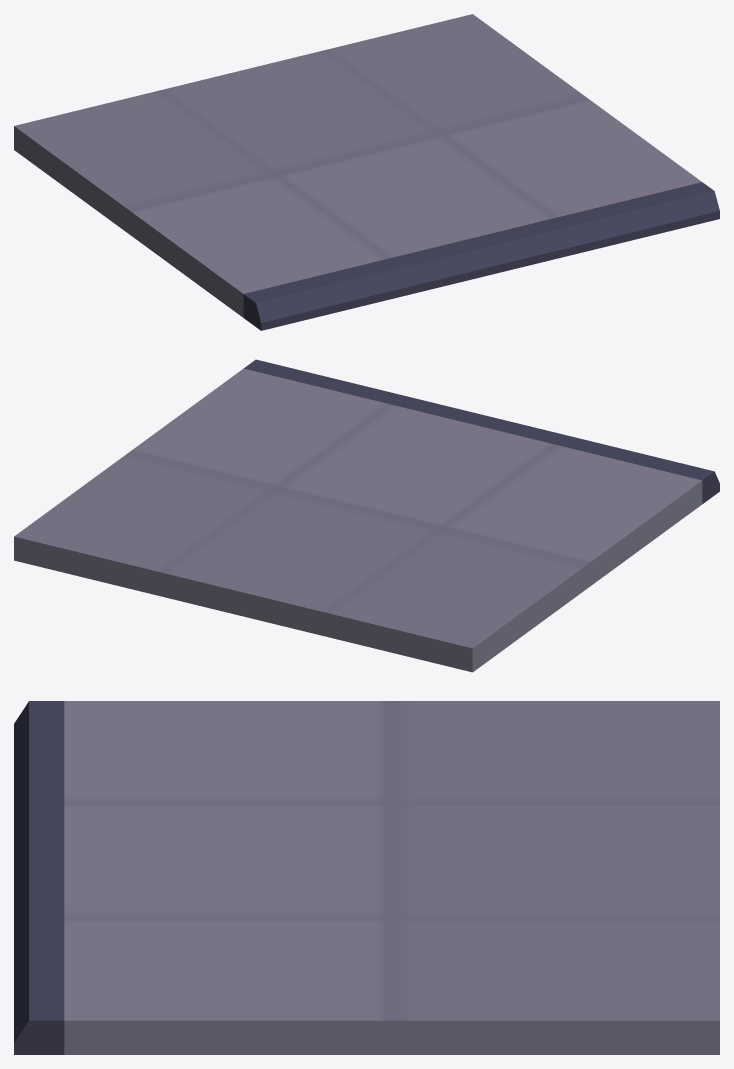
File: paving-module.glb
3 renders of one model, top to bottom at view 1: azimuth 30°, elevation 25°; view 2: azimuth 150°, elevation 25°; view 3: azimuth 270°, elevation 25°, orthographic. The views are drawn at different scales.
Visible parts, largest first — view 1: Paving, Curb; view 2: Paving, Curb; view 3: Paving, Curb.
Boxes of the visible parts, x1,y1,x2,y2 form: Paving: (14, 14, 701, 317); Curb: (243, 182, 719, 330); Paving: (14, 368, 702, 672); Curb: (244, 359, 719, 503); Paving: (64, 701, 719, 1054); Curb: (14, 701, 64, 1054).
Bounding box in the file's own units: 3 × 0.15 × 2.8.
1 material, 1 textured.
